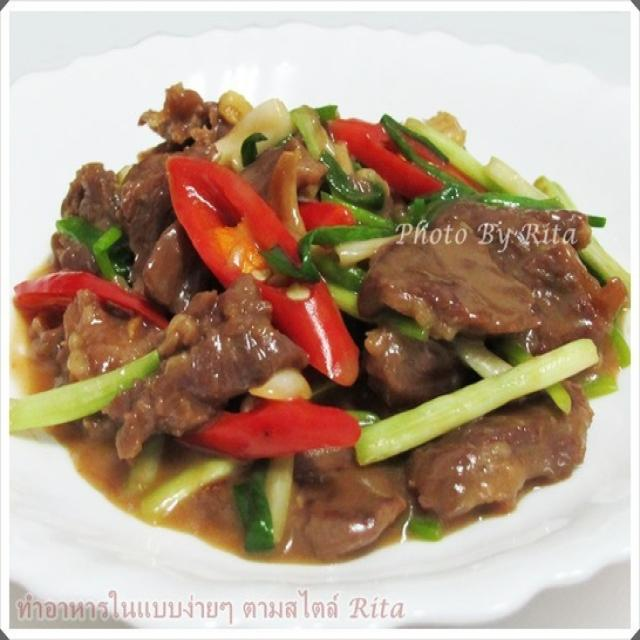牛肉菜式: (15, 34, 624, 602)
